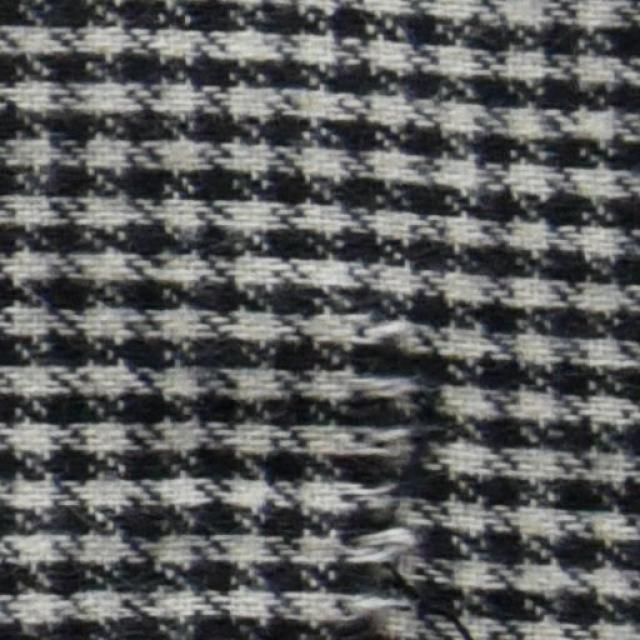Snag: (311, 306, 454, 639)
